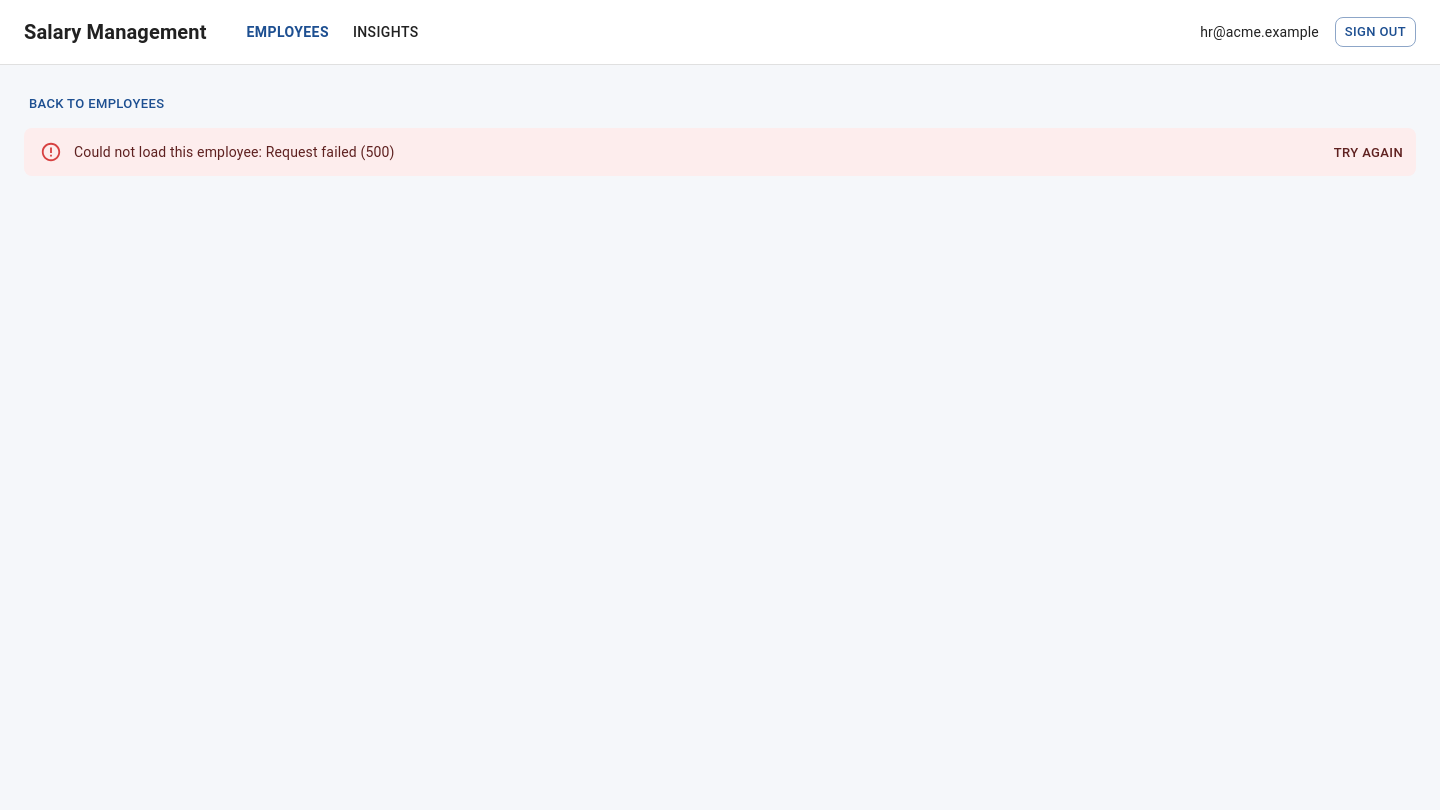
Test: the employee page › the profile › reports any other failure, and loads again on request
This screenshot has width=1440, height=810.
Expected: the message shows "Could not load this employee: Request failed (500)", [24,128,1416,176]
Click the button "Try again" at (1368, 153), box [1329,138,1408,169]
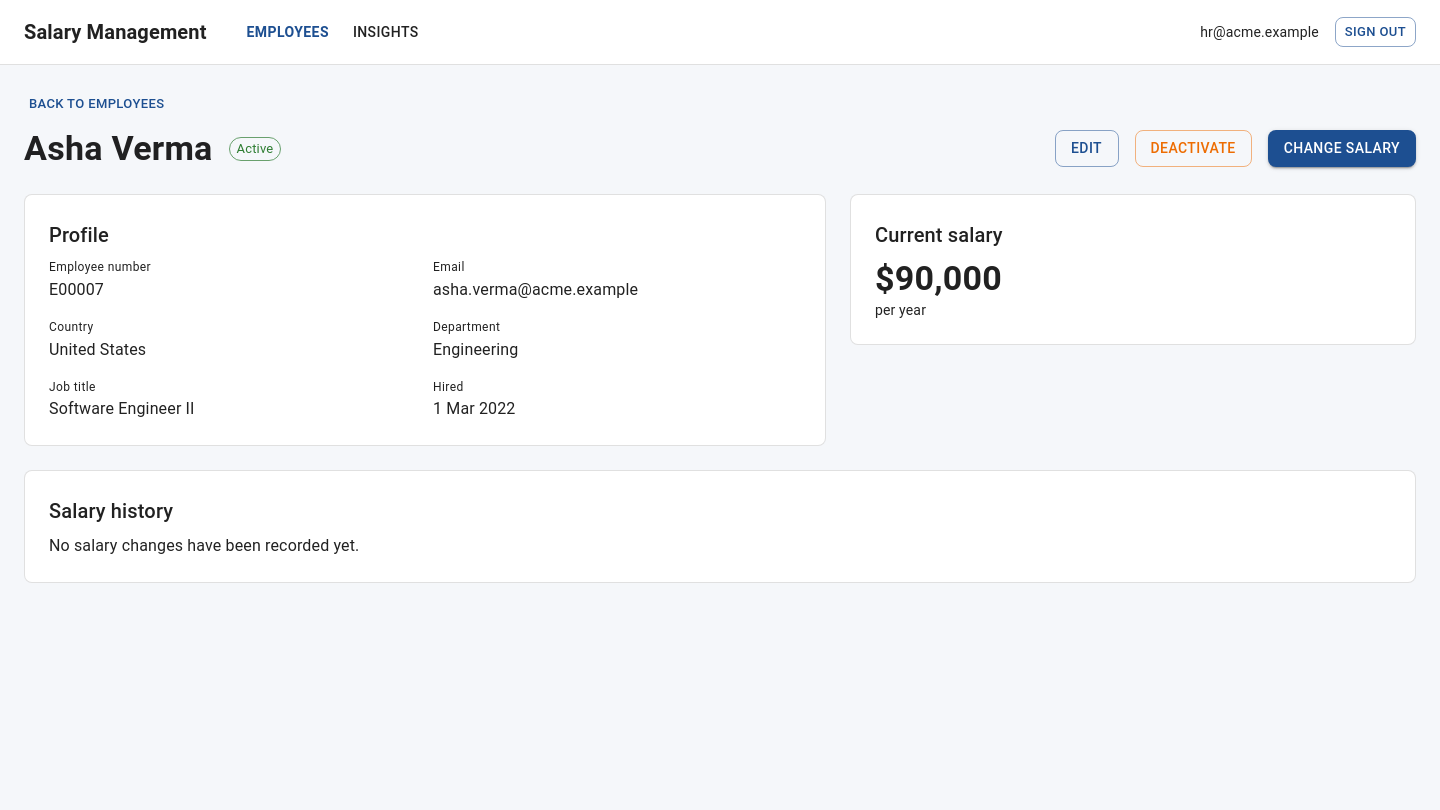
Expected: the heading "Asha Verma" is shown, [24,128,213,170]
